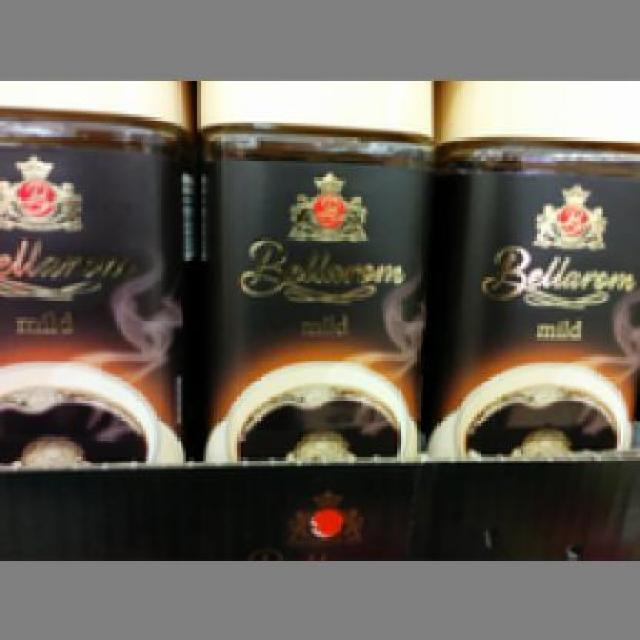Coffee: (191, 74, 426, 454), (432, 77, 638, 452), (0, 76, 195, 458)
